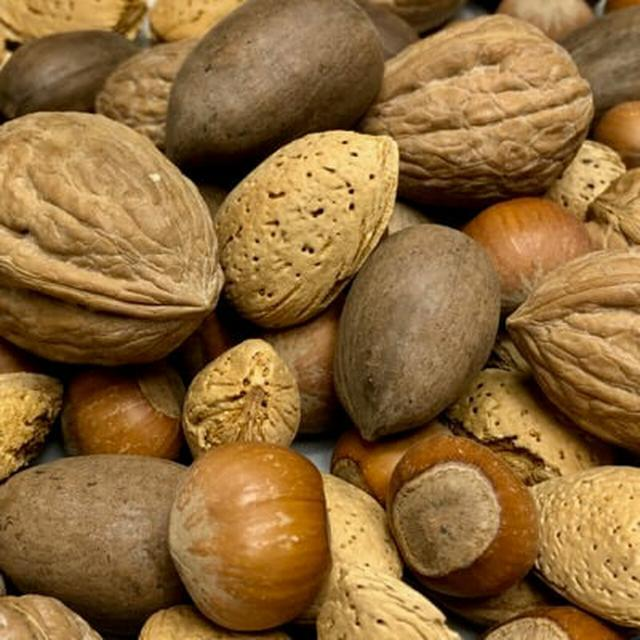Frutta secca: (12, 6, 623, 627)
